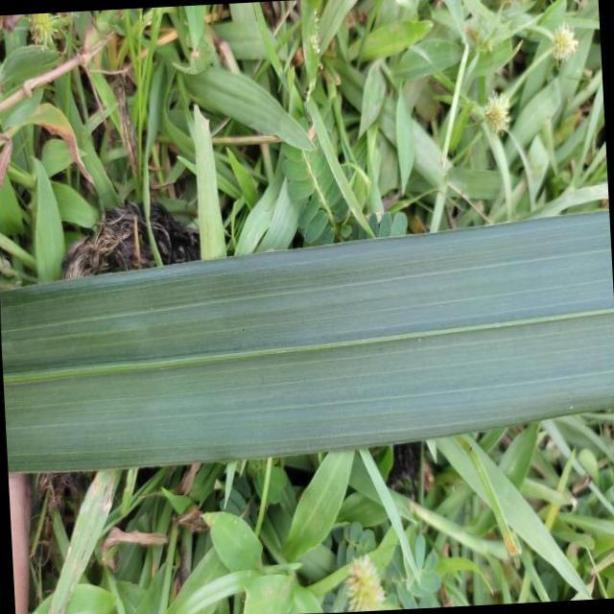Healthy: (0, 208, 614, 480)
